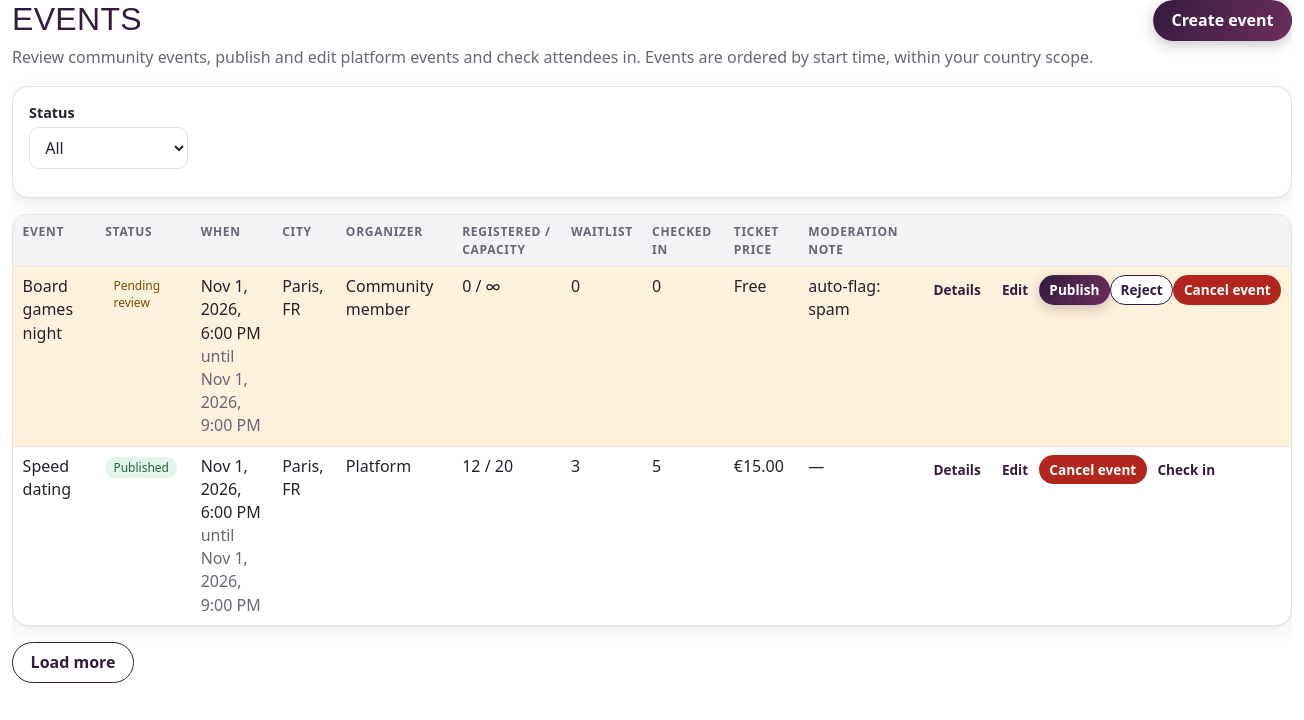
Scenario: EventsPage list › pages with the cursor and keeps the status filter
expect the text "Board games night" is shown: met, box [13,267,96,446]
Click the button "Load more". click: (73, 662)
box: [12,642,134,683]
(page scrolled)
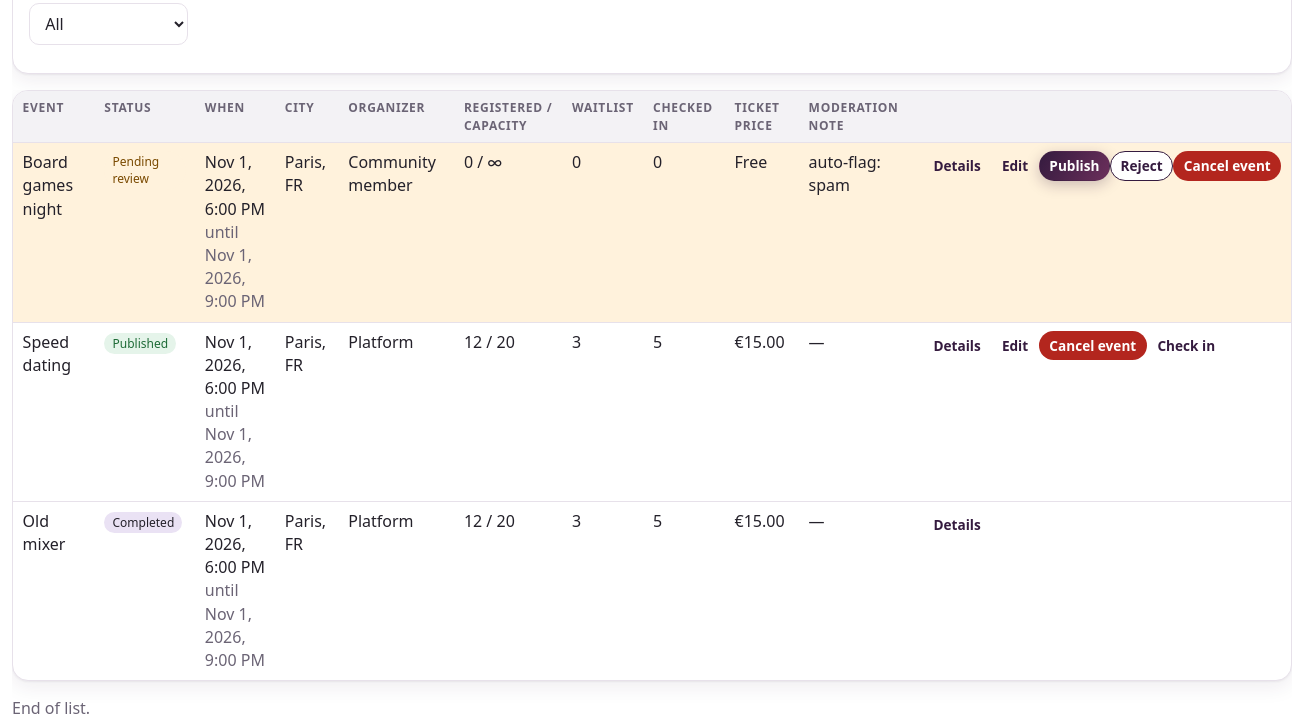
expect the text "Board games night" is shown: met, box [13,143,95,322]
expect the text "Old mixer" is shown: met, box [13,502,95,680]
expect the text "End of list." is shown: met, box [12,697,90,719]
